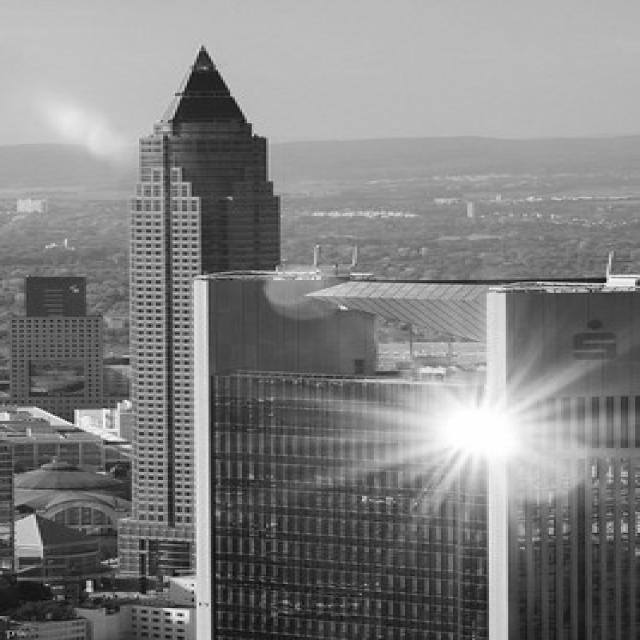building: (118, 37, 286, 640)
